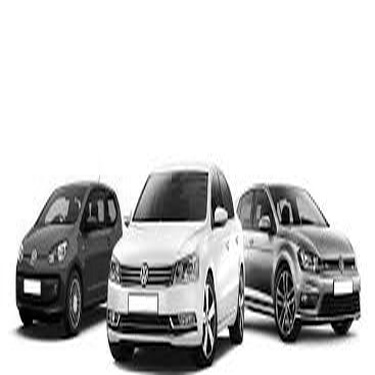car: (106, 152, 248, 356), (232, 163, 371, 338), (6, 158, 112, 336)
